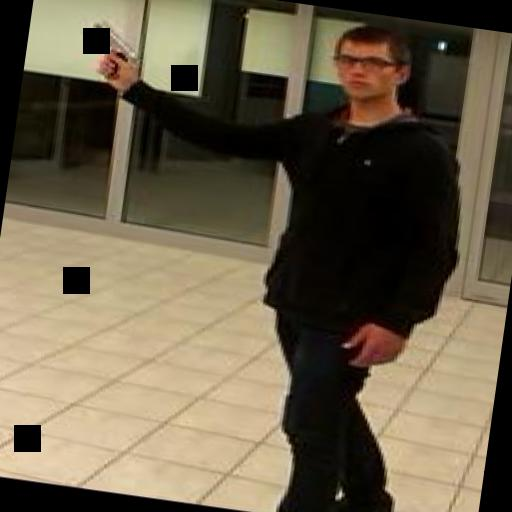Handgun: (80, 14, 146, 90)
